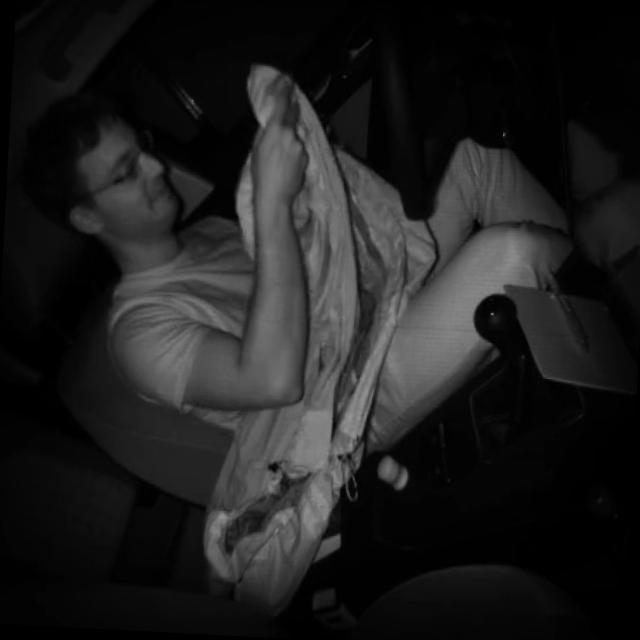pen: (541, 261, 597, 359)
